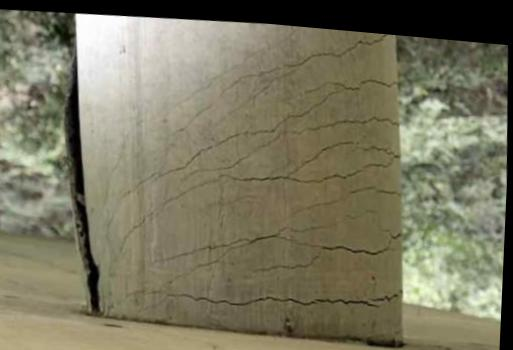crack: (105, 71, 397, 235), (121, 133, 401, 253), (122, 202, 402, 300), (177, 109, 399, 190), (164, 20, 297, 113), (219, 27, 387, 94), (137, 280, 403, 309), (215, 63, 296, 121), (284, 178, 402, 216), (102, 117, 142, 207), (173, 100, 213, 130)
damage: (65, 41, 101, 313)
